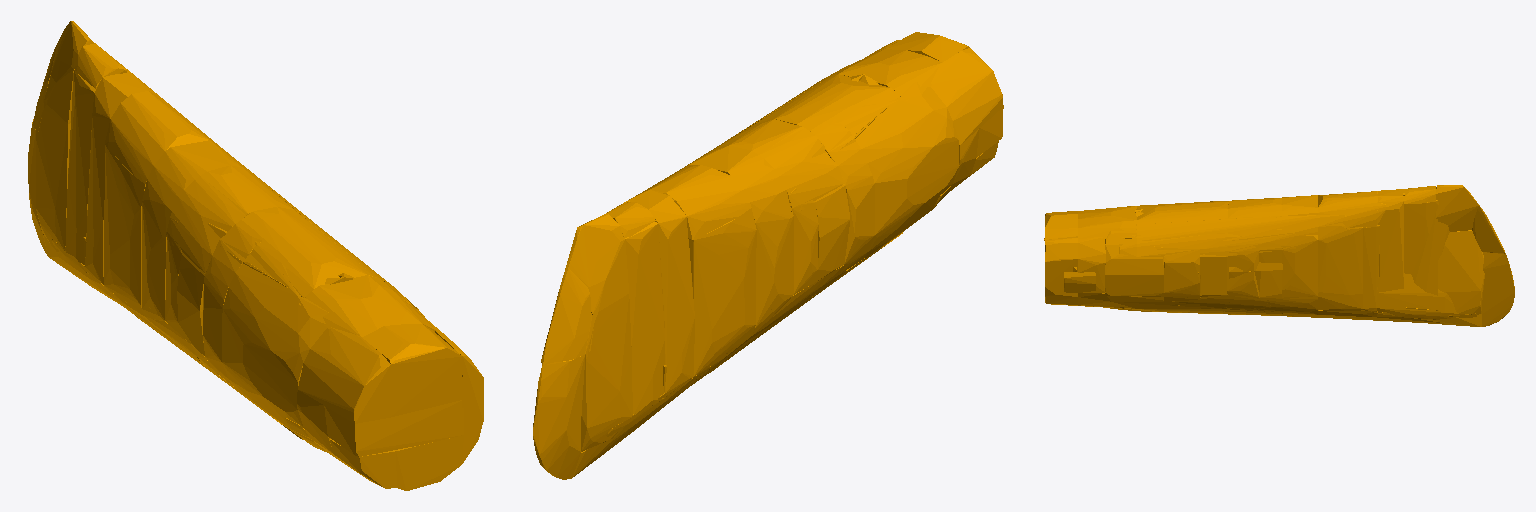
The robot description file, URDF, robot "tube-signal":
<?xml version="1.0" ?>
<robot name="tube-signal">
  <link name="baseLink">
    <contact>
      <lateral_friction value="1.0"/>
      <inertia_scaling value="3.0"/>
    </contact>
    <inertial>
      <origin rpy="0 0 0" xyz="0.000 0.000 0.000"/>
       <mass value=".1"/>
       <inertia ixx="1" ixy="0.0" ixz="0.0" iyy="1" iyz="0.0" izz="1"/>
    </inertial>
    <visual>
      <origin rpy="0 0 0" xyz="0 0 0"/>
      <geometry>
        <mesh filename="tube/tube-signal_pokemon.obj" scale="1.0 1.0 1.0"/>
      </geometry>
    </visual>
    <collision>
      <origin rpy="0 0 0" xyz="0 0 0"/>
      <geometry>
        <mesh filename="../collision/tube/tube-signal_pokemon.obj" scale="1.0 1.0 1.0"/>
      </geometry>
    </collision>
  </link>
</robot>
        

--- What the picture shows (computed from the rendered views, not written in the file) ---
The picture shows the robot from 3 angles, left to right: view 1: azimuth 30°, elevation 25°; view 2: azimuth 150°, elevation 25°; view 3: azimuth 270°, elevation 25°; orthographic projection.
Robot: tube-signal — 1 links, 0 joints (none); root link baseLink; default pose: every joint at zero.
Visible links, largest first — view 1: baseLink; view 2: baseLink; view 3: baseLink.
Link boxes in pixels (box(x1,y1,x2,y2)): baseLink: box(28, 21, 483, 490); baseLink: box(533, 32, 1003, 479); baseLink: box(1044, 185, 1514, 326).
Bounding box of the posed robot: 0.0333 × 0.1609 × 0.0541 m (x, y, z).
Meshes: 1 distinct files referenced, 1 mesh visuals loaded (1 OBJ).